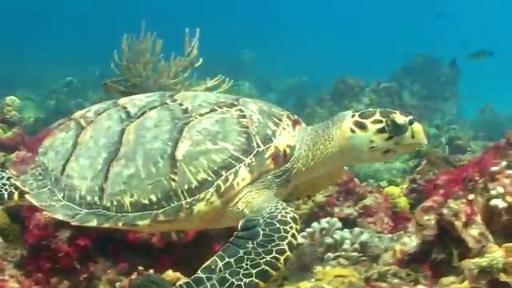Fish: (0, 92, 426, 287)
